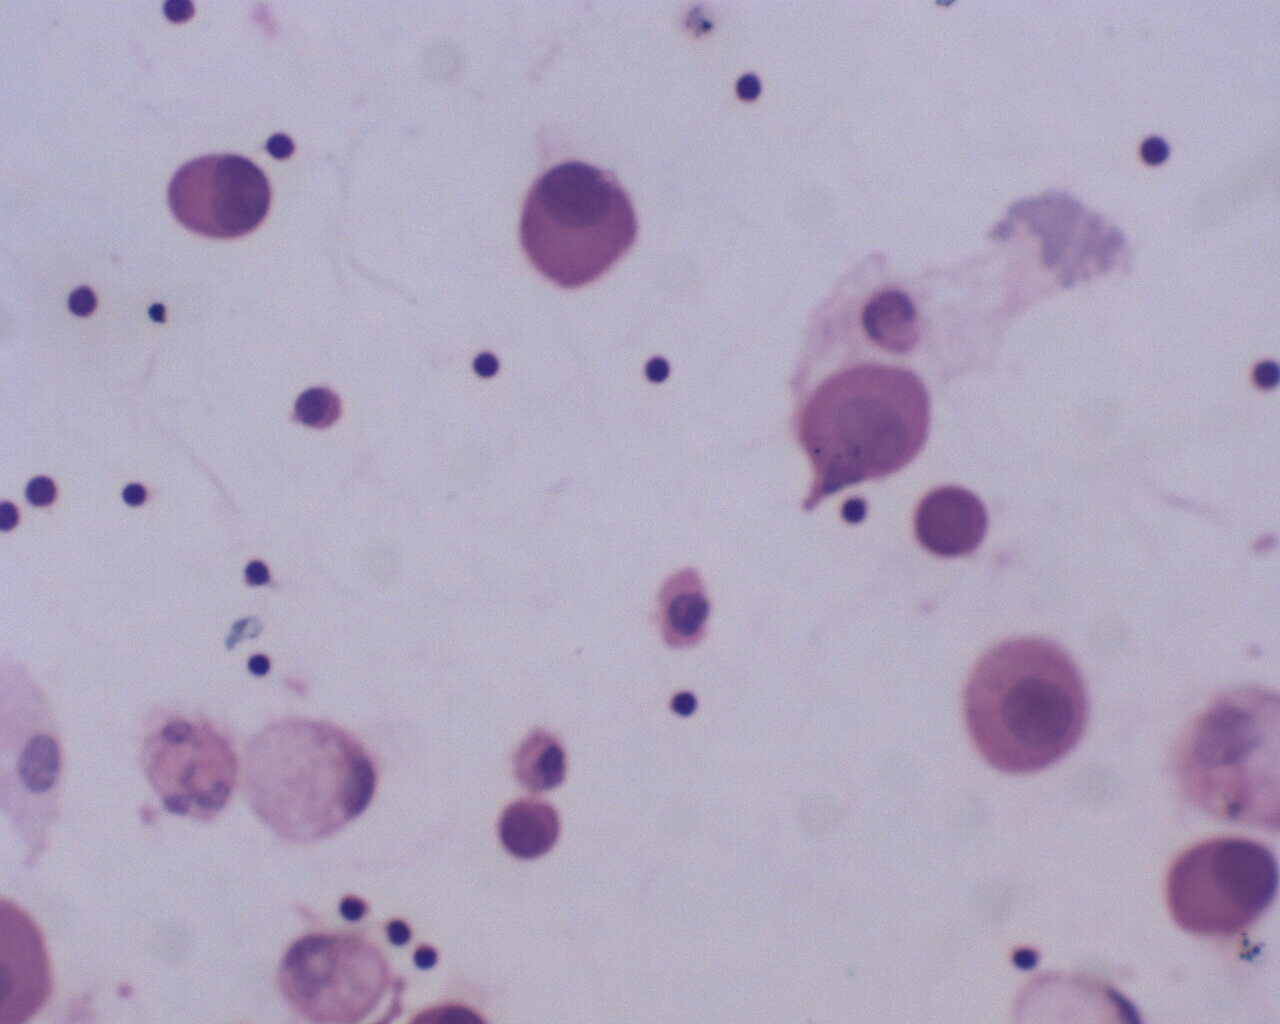ab: (963, 631, 1091, 776), (509, 159, 644, 295), (1159, 829, 1277, 942), (160, 149, 275, 242), (910, 483, 992, 563), (498, 796, 571, 866)
histo: (237, 714, 382, 848)
lymph: (729, 68, 771, 114), (667, 688, 706, 724), (1138, 134, 1176, 171), (472, 345, 503, 385), (642, 351, 677, 383)
